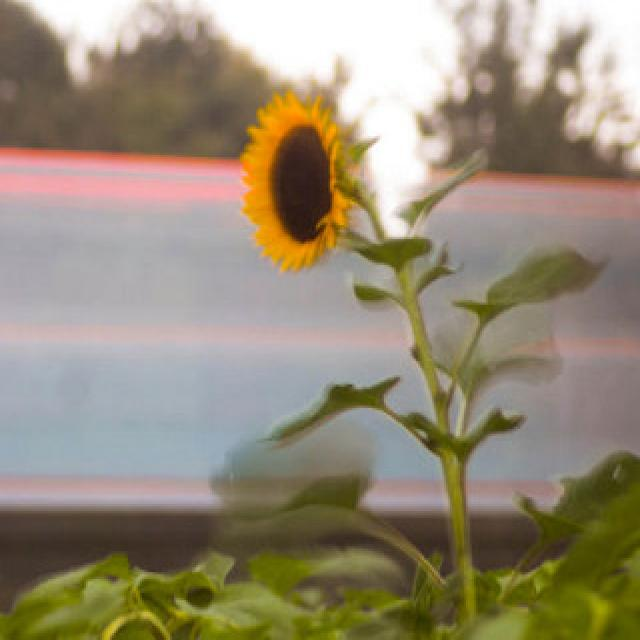sunflower: (225, 89, 353, 281)
